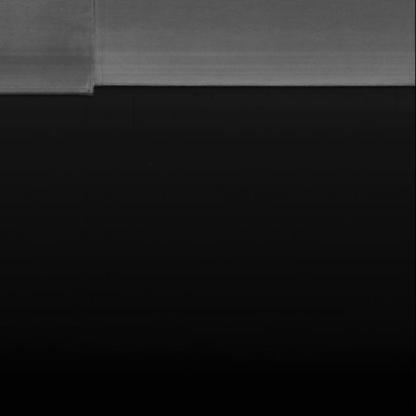welding_line: (79, 1, 114, 108)
